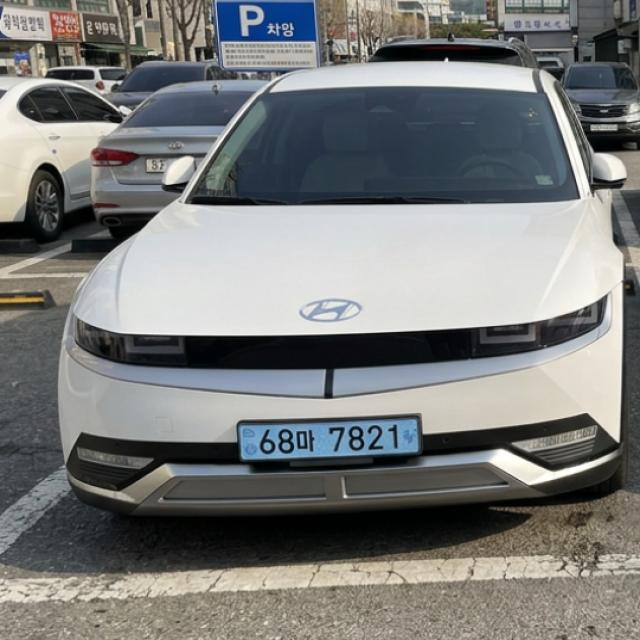car: (223, 405, 430, 474)
carev: (234, 417, 259, 466), (401, 413, 423, 461)
